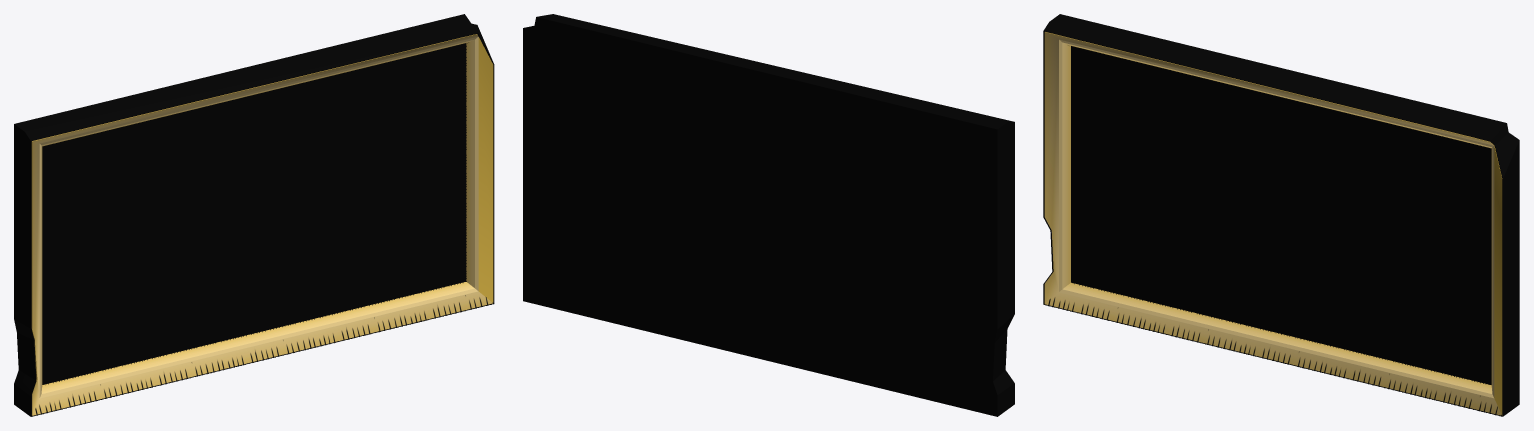
File: picture-frame-01.glb
3 renders of one model, left to right at view 1: azimuth 30°, elevation 25°; view 2: azimuth 150°, elevation 25°; view 3: azimuth 330°, elevation 25°, orthographic. The views are drawn at different scales.
Visible parts, largest first — view 1: PictureFrame_01; view 2: PictureFrame_01; view 3: PictureFrame_01.
Part boxes in pixels (bbox=[...]): PictureFrame_01: bbox=[14, 14, 494, 416]; PictureFrame_01: bbox=[523, 14, 1014, 416]; PictureFrame_01: bbox=[1043, 14, 1519, 416].
Bounding box in the file's own units: 3.4 × 1.97 × 0.2207.
Materials: 3 (2 with a texture image).
